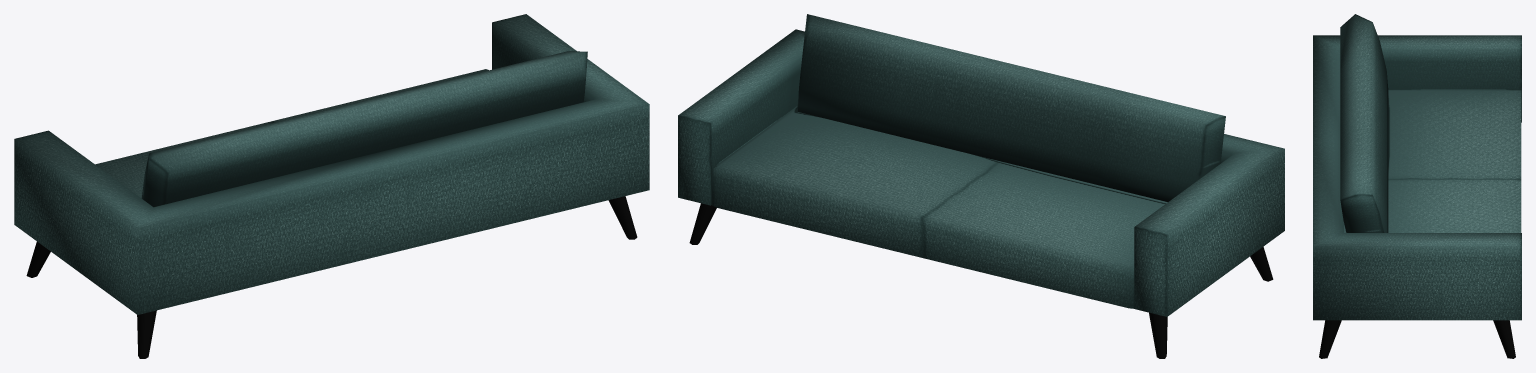
File: FUR0210037.fbx
The picture shows the model from 3 angles, left to right: view 1: azimuth 30°, elevation 25°; view 2: azimuth 150°, elevation 25°; view 3: azimuth 270°, elevation 25°; orthographic projection. The views are drawn at different scales.
Visible parts, largest first — view 1: smFUR0210037; view 2: smFUR0210037; view 3: smFUR0210037.
Boxes of the visible parts, box(x1,y1,x2,y2) form: smFUR0210037: box(14, 14, 649, 358); smFUR0210037: box(678, 14, 1284, 358); smFUR0210037: box(1313, 14, 1521, 358).
Size of the model in its own units: 286 by 95.21 by 119.
Materials: 1 (1 with a texture image).
